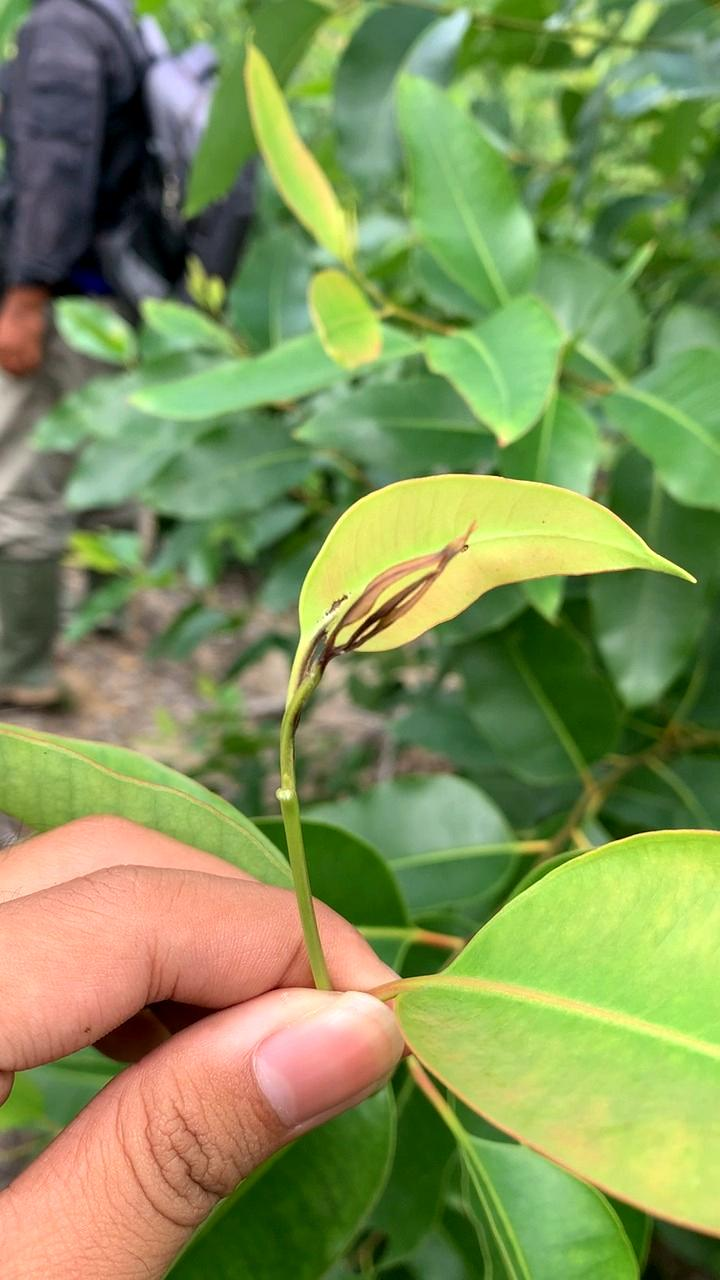Helopeltis-Withered Sprout: (315, 528, 487, 644)
